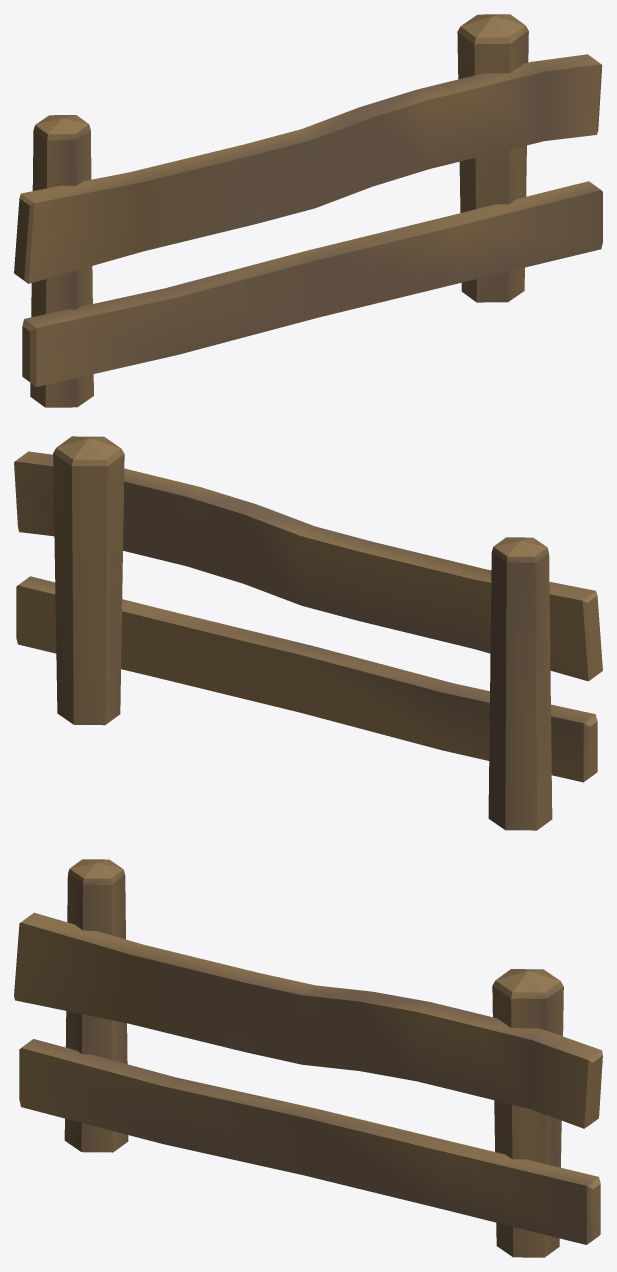
Rendered from Fences03.fbx.
The picture shows the model from 3 angles, top to bottom: view 1: azimuth 30°, elevation 25°; view 2: azimuth 150°, elevation 25°; view 3: azimuth 330°, elevation 25°; orthographic projection.
Visible parts, largest first — view 1: Fances03_LOD0; view 2: Fances03_LOD0; view 3: Fances03_LOD0.
Boxes of the visible parts, x1,y1,x2,y2 form: Fances03_LOD0: [14, 14, 602, 407]; Fances03_LOD0: [14, 436, 602, 830]; Fances03_LOD0: [14, 859, 602, 1257].
Size of what is drawn, in the model's own units: 251 by 115 by 31.4.
